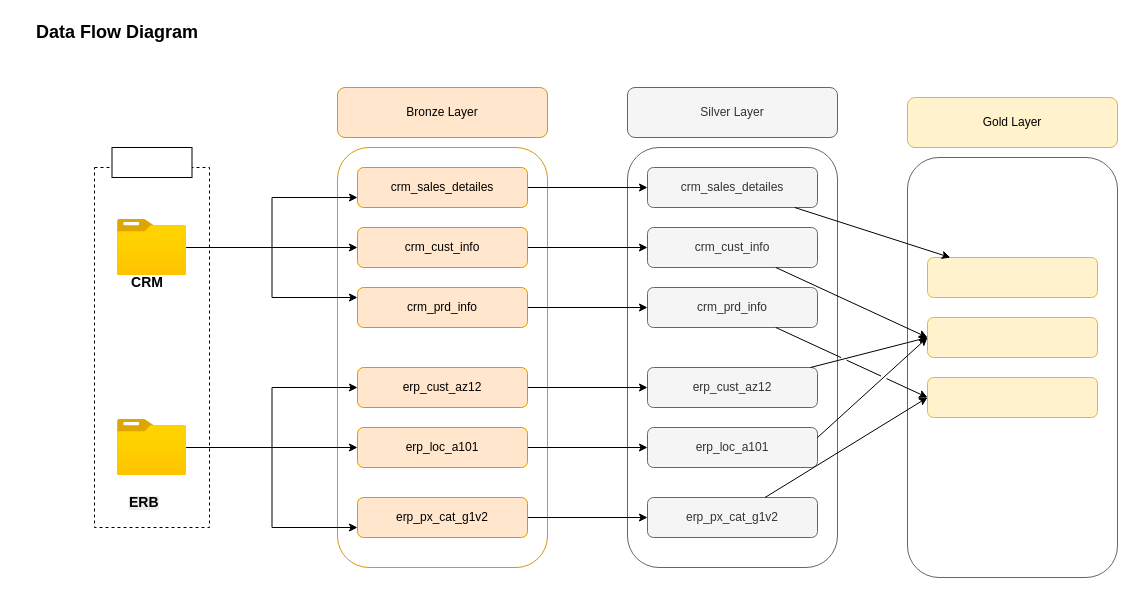
Some shapes in this 1135 by 595 pixel diagram are drawn without their labels. Each missing label, with the centre of its shape:
"dim_customers" belongs at (1012,337).
"dim_products" belongs at (1012,397).
"fact_sales" belongs at (1012,277).
"Sources" belongs at (151,162).
